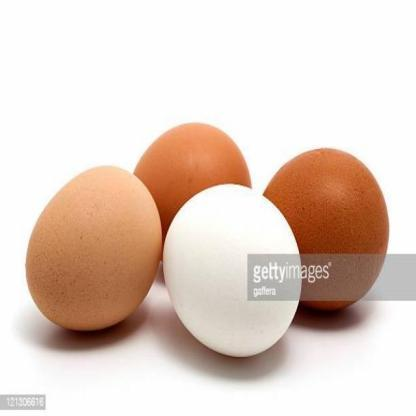egg: (10, 148, 172, 339), (158, 180, 310, 368), (260, 126, 402, 324), (128, 103, 260, 241)
